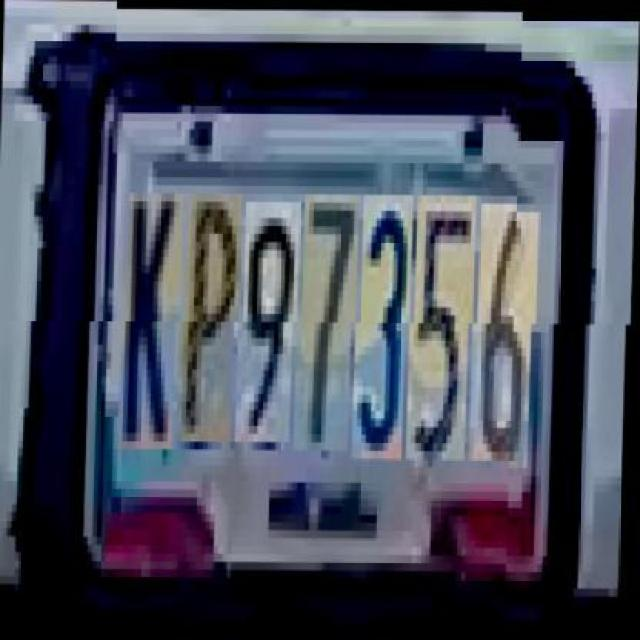3: (358, 194, 416, 458)
5: (413, 194, 478, 458)
6: (476, 203, 541, 459)
7: (301, 195, 361, 450)
9: (242, 202, 302, 442)
k: (126, 193, 186, 449)
p: (184, 194, 244, 441)
